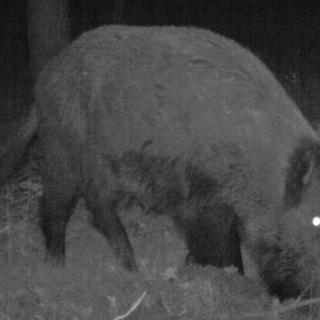Pig: (30, 14, 320, 299)
